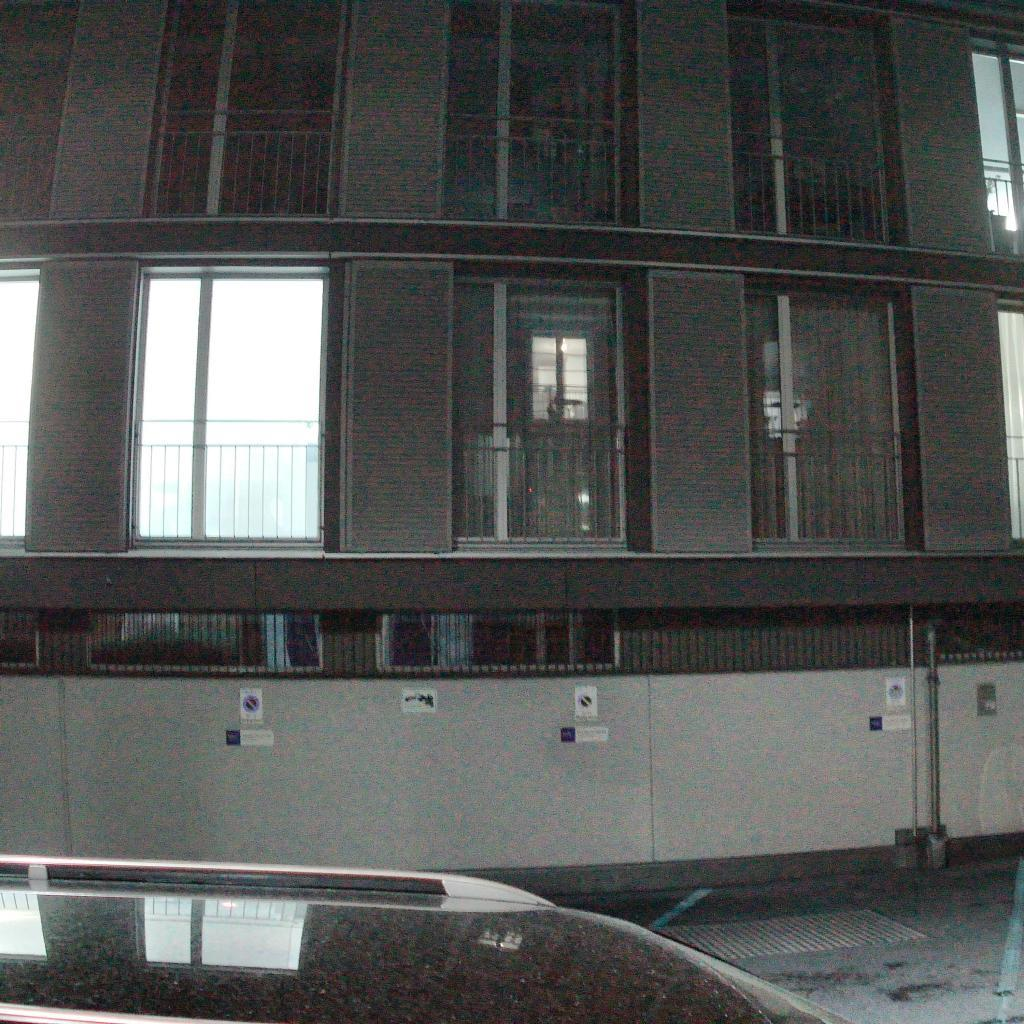balcony-fence: (133, 420, 321, 540), (442, 114, 619, 226), (453, 425, 621, 541), (150, 109, 332, 215), (730, 130, 887, 243), (750, 432, 905, 543), (0, 109, 63, 222), (984, 160, 1024, 257), (0, 422, 29, 548), (1006, 436, 1024, 539)
car: (0, 852, 871, 1024)
facade: (0, 0, 1024, 600)
fence: (0, 601, 1024, 896)
street: (565, 860, 1024, 1024)
window: (126, 264, 330, 548), (138, 0, 350, 217), (452, 277, 626, 539), (741, 287, 908, 544), (436, 0, 621, 226), (724, 13, 888, 244), (89, 607, 318, 670), (391, 607, 614, 666), (0, 264, 42, 546), (971, 45, 1024, 255), (996, 304, 1024, 539), (0, 603, 39, 665)
